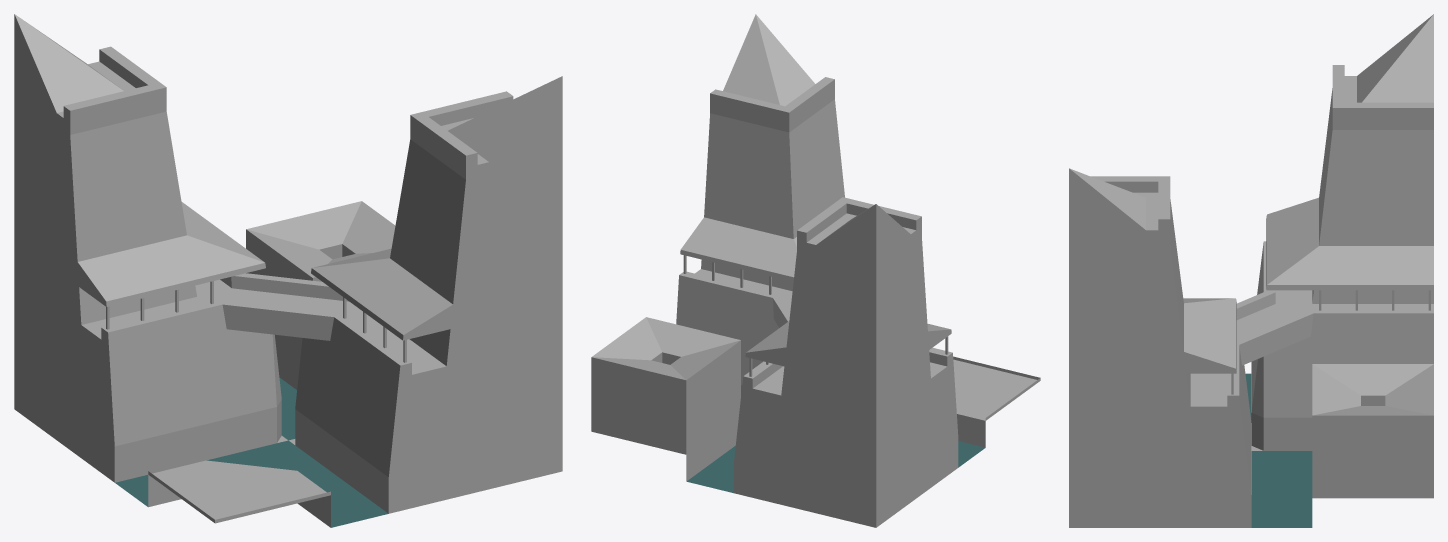
3 views of the same model, side by side, from view 1: azimuth 30°, elevation 25°; view 2: azimuth 150°, elevation 25°; view 3: azimuth 270°, elevation 25° (orthographic). The views are drawn at different scales.
Parts seen in each view (by area): view 1: c2cr; view 2: c2cr; view 3: c2cr.
Boxes of the visible parts, x1=… form: c2cr: x1=14, y1=14, x2=562, y2=527; c2cr: x1=591, y1=14, x2=1040, y2=527; c2cr: x1=1069, y1=14, x2=1433, y2=527.
Size of the model in its own units: 30 by 32.63 by 30.
